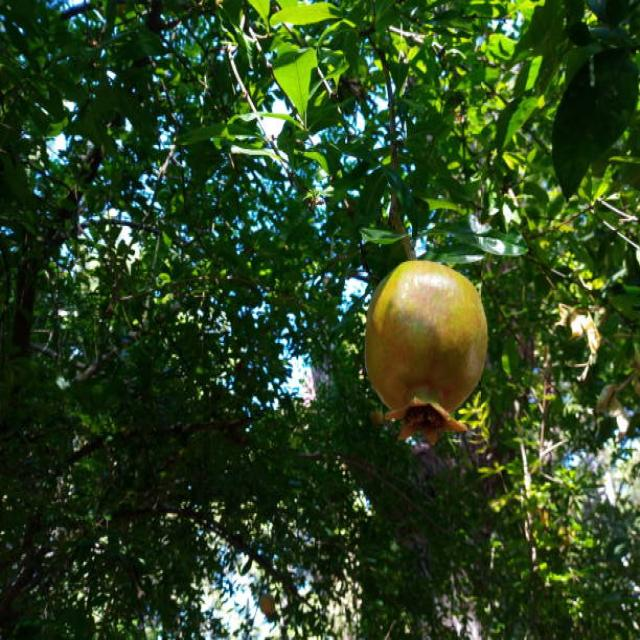Unripe: (363, 255, 490, 450)
